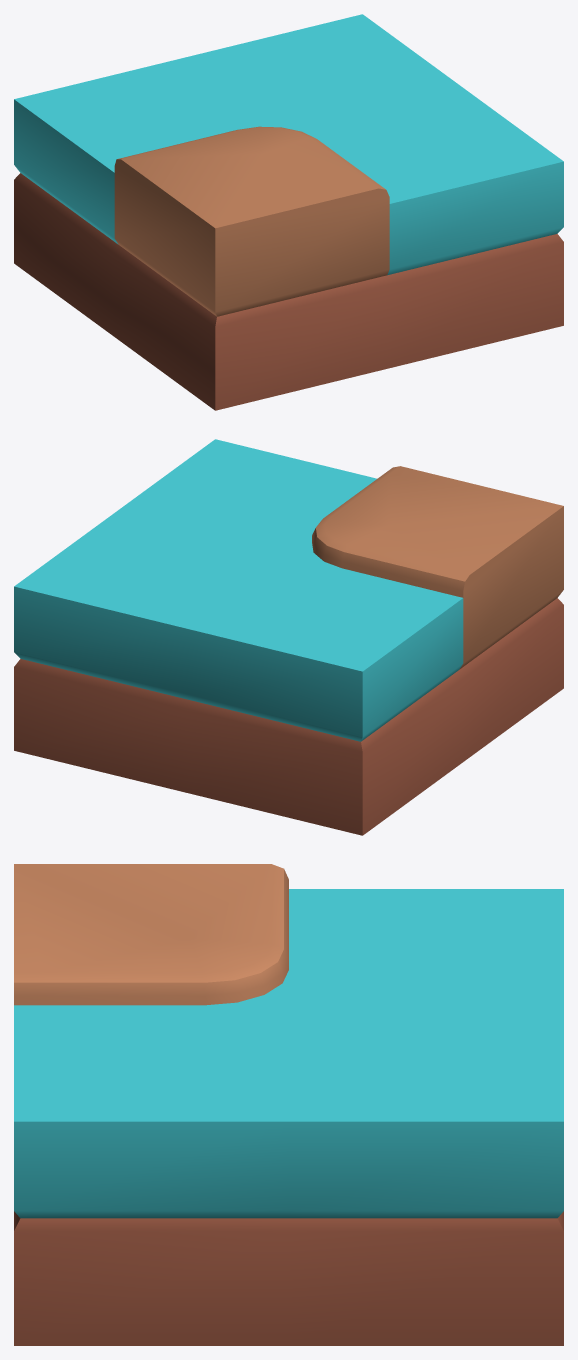
File: square_rock_waterOuterCorner.glb
3 views of the same model, one above another, from view 1: azimuth 30°, elevation 25°; view 2: azimuth 150°, elevation 25°; view 3: azimuth 270°, elevation 25° (orthographic). The views are drawn at different scales.
Parts seen in each view (by area): view 1: square_rock_waterOuterCorner; view 2: square_rock_waterOuterCorner; view 3: square_rock_waterOuterCorner.
Boxes of the visible parts, bbox=[...] form: square_rock_waterOuterCorner: bbox=[14, 14, 563, 410]; square_rock_waterOuterCorner: bbox=[14, 439, 563, 835]; square_rock_waterOuterCorner: bbox=[14, 864, 563, 1345].
Size of the model in its own units: 3.82 by 1.91 by 3.82.
